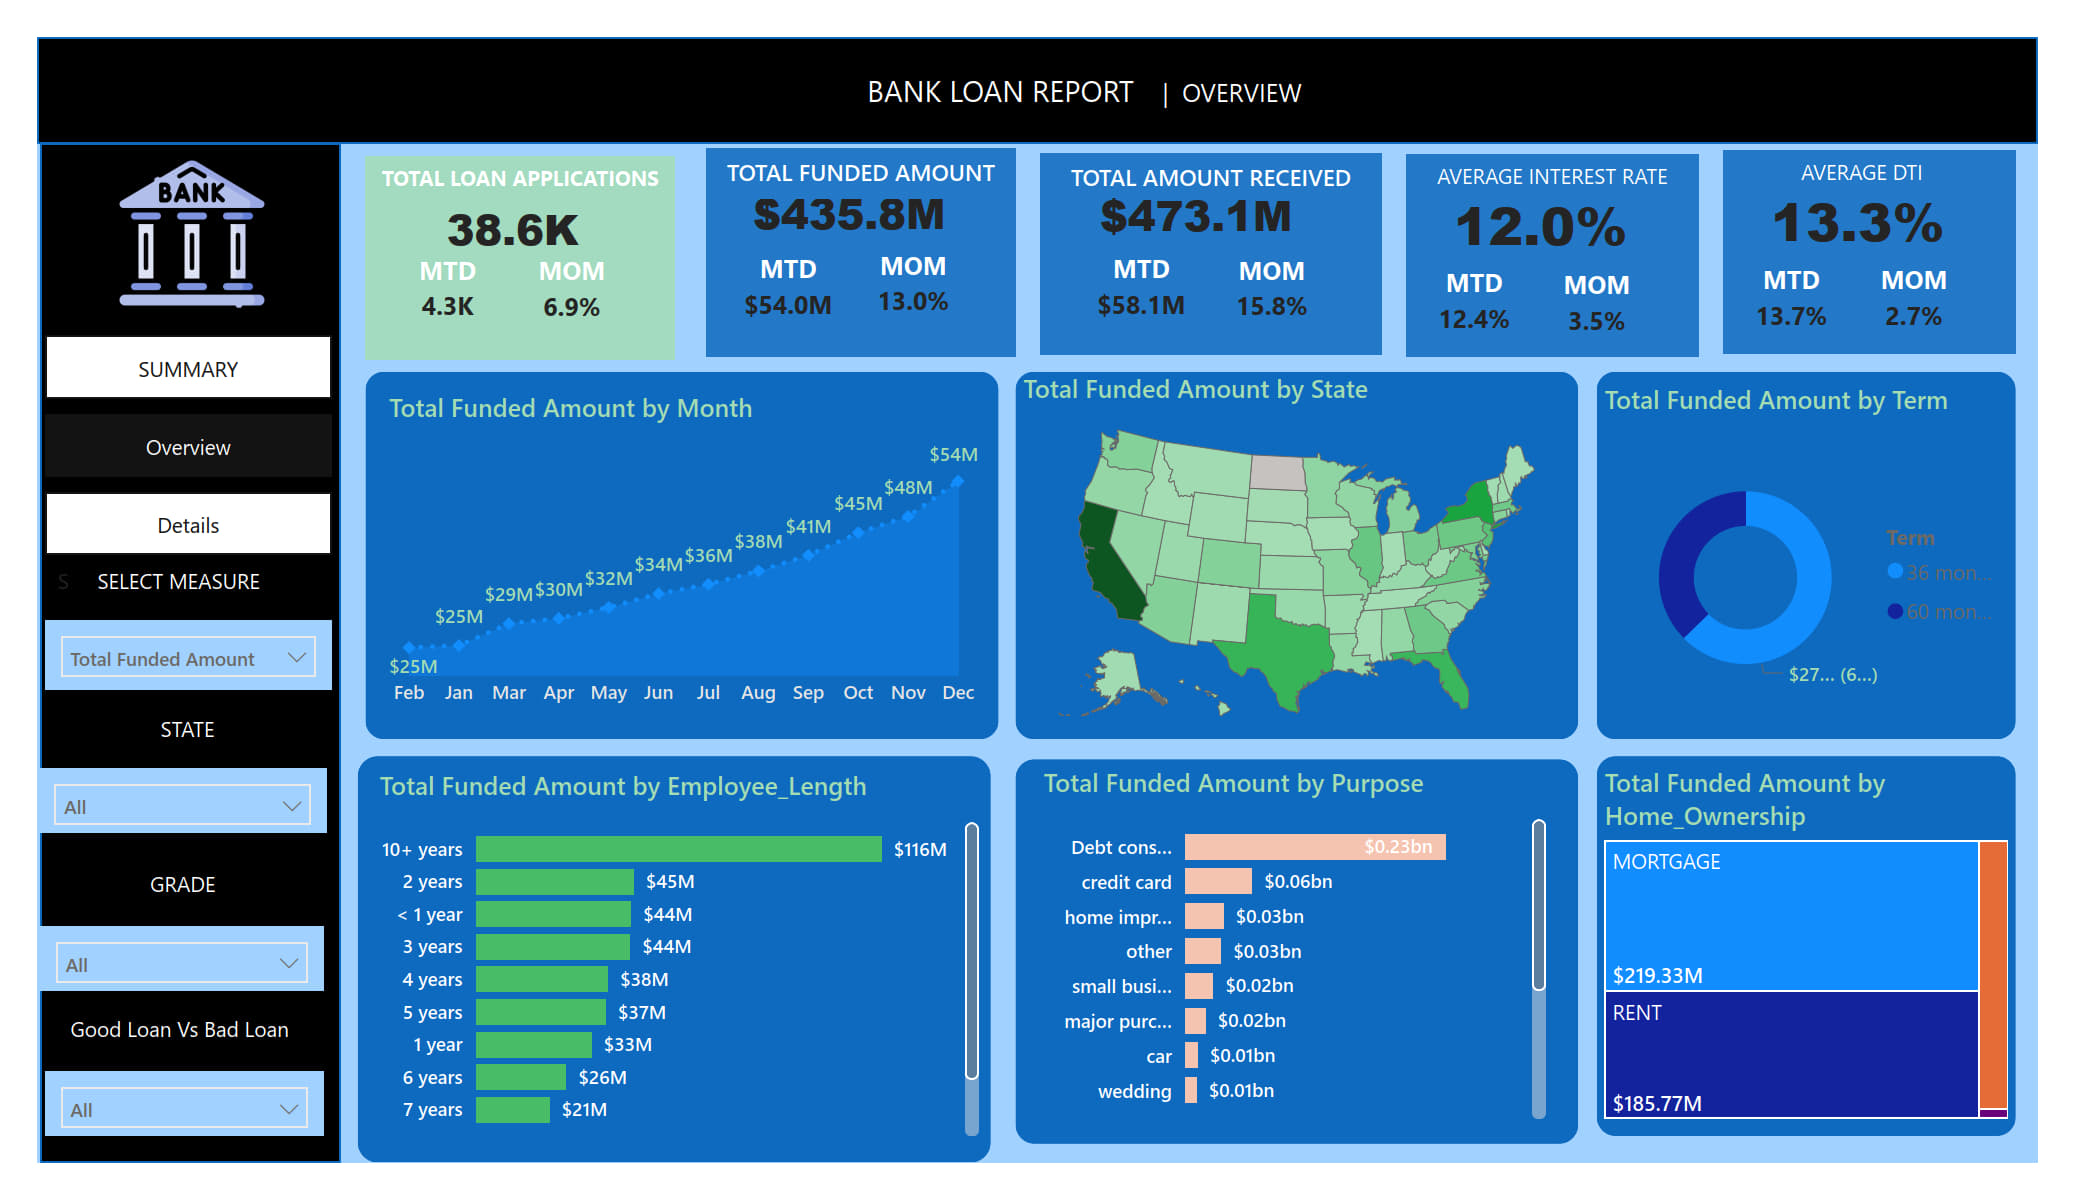

What the dashboard file says about the page in this screenshot:
{"tool":"powerbi","page":{"name":"Overview","canvas":[1280,720],"ordinal":1},"visuals":[{"type":"textbox","title":"Total Funded Amount","box":[428.2,71.2,197.9,132.7],"z":0,"group":"g2"},{"type":"textbox","title":"Total Funded Amount","box":[1078.6,72.4,187,130.3],"z":0,"group":"g5"},{"type":"textbox","title":"Total Funded Amount","box":[641.7,73.6,218.4,129.1],"z":0,"group":"g3"},{"type":"textbox","title":"Total Funded Amount","box":[875.8,74.8,187,129.1],"z":0,"group":"g4"},{"type":"group","id":"g1","title":"Group 1","box":[209.9,76,197.9,130.3],"z":0},{"type":"textbox","box":[209.9,76,197.9,130.3],"z":0,"group":"g1"},{"type":"card","fields":{"Values":["Bank_Loan.Avg DTI"]},"box":[1087.6,96.8,154.4,42.4],"z":1000,"group":"g5"},{"type":"card","fields":{"Values":["Bank_Loan.Total Amount Received"]},"box":[672.5,98,137.5,32.3],"z":1000,"group":"g3"},{"type":"card","fields":{"Values":["Bank_Loan.Avg Interest rate"]},"box":[884.8,99,154.4,42.1],"z":1000,"group":"g4"},{"type":"card","fields":{"Values":["Bank_Loan.Total Funded Amount"]},"box":[447.1,99.7,144.8,28.7],"z":1000,"group":"g2"},{"type":"shape","box":[209.9,213.5,405,235],"z":1000},{"type":"shape","box":[0,0,1280,67.6],"z":2000},{"type":"card","title":"MTD","fields":{"Values":["Bank_Loan.MTD Funded Amount"]},"box":[444.7,136.7,72.4,47.8],"z":2000,"group":"g2"},{"type":"card","title":"MTD","fields":{"Values":["Bank_Loan.MTD Total Amount Received"]},"box":[669.9,137,72.4,49.6],"z":2000,"group":"g3"},{"type":"card","title":"MTD","fields":{"Values":["Bank_Loan.MTD Loan Applications"]},"box":[227.7,138.2,69.3,47],"z":2000,"group":"g1"},{"type":"card","title":"MTD","fields":{"Values":["Bank_Loan.MTD Avg DTI"]},"box":[1094.1,144.5,56.6,46.2],"z":2000,"group":"g5"},{"type":"card","title":"MTD","fields":{"Values":["Bank_Loan.MTD Avg Int"]},"box":[891.3,146.2,56.6,45.8],"z":2000,"group":"g4"},{"type":"shape","box":[2.4,67.6,191.8,652.7],"z":3000},{"type":"card","title":"MOM","fields":{"Values":["Bank_Loan.MOM Funded Amount"]},"box":[524.3,135.5,72.4,47.8],"z":3000,"group":"g2"},{"type":"card","title":"MOM","fields":{"Values":["Bank_Loan.MoM Amount Received"]},"box":[754.5,137.5,70,49.6],"z":3000,"group":"g3"},{"type":"card","title":"MOM","fields":{"Values":["Bank_Loan.MOM Loan Applications"]},"box":[304.6,138.2,74.4,45.8],"z":3000,"group":"g1"},{"type":"card","title":"MOM","fields":{"Values":["Bank_Loan.MOM Avg DTI"]},"box":[1173,144.9,55.6,46.2],"z":3000,"group":"g5"},{"type":"card","title":"MOM","fields":{"Values":["Bank_Loan.MOM Avg Int"]},"box":[970.2,146.6,55.6,45.8],"z":3000,"group":"g4"},{"type":"card","fields":{"Values":["Bank_Loan.Total Loan Applications"]},"box":[235.3,107.4,137.5,32.6],"z":4000},{"type":"group","id":"g2","title":"Group 1","box":[428.2,71.2,197.9,132.7],"z":5000},{"type":"group","id":"g3","title":"Group 1","box":[641.7,73.6,218.4,129.1],"z":6000},{"type":"group","id":"g4","title":"Group 1","box":[875.8,74.8,187,129.1],"z":7000},{"type":"group","id":"g5","title":"Group 1","box":[1078.6,72.4,187,130.3],"z":8000},{"type":"slicer","fields":{"Values":["Bank_Loan.address_state"]},"box":[1.2,468.1,183.4,41],"z":9000},{"type":"textbox","box":[7.2,429.5,177.3,30.2],"z":10000},{"type":"slicer","fields":{"Values":["Bank_Loan.grade"]},"box":[2.4,569.4,181,41],"z":11000},{"type":"textbox","box":[13.3,621.3,155.6,30.2],"z":12000},{"type":"textbox","box":[4.8,528.4,176.1,32.6],"z":13000},{"type":"slicer","fields":{"Values":["Bank_Loan.Good Vs Bad Loan"]},"box":[4.8,662.3,178.6,41],"z":14000},{"type":"textbox","box":[480.2,15.7,431.9,35],"z":15000},{"type":"areaChart","fields":{"Y":["Bank_Loan.Total Funded Amount"],"Category":["Date Table.Month"]},"box":[219.6,225.6,387.3,211.1],"z":16000},{"type":"slicer","fields":{"Values":["Select Measure.Select Measure"]},"box":[4.8,372.8,183.4,44.6],"z":17000},{"type":"textbox","box":[8.4,334.2,176.1,30.2],"z":18000},{"type":"shape","box":[626.1,213.5,360,235.3],"z":19000},{"type":"shapeMap","fields":{"Value":["Bank_Loan.Total Funded Amount"],"Category":["Bank_Loan.address_state"]},"box":[626.1,213.5,359.5,235.3],"z":20000},{"type":"shape","box":[997.7,213.5,267.8,235.3],"z":21000},{"type":"donutChart","fields":{"Y":["Bank_Loan.Total Funded Amount"],"Category":["Bank_Loan.term"]},"box":[997.7,220.8,267.8,226.8],"z":22000},{"type":"shape","box":[205.1,459.7,405.4,260.6],"z":23000},{"type":"barChart","fields":{"Y":["Bank_Loan.Total Funded Amount"],"Category":["Bank_Loan.emp_length"]},"box":[213.5,468.1,393.3,240.1],"z":24000},{"type":"shape","box":[626.1,462.1,359.5,246.1],"z":25000},{"type":"barChart","fields":{"Y":["Bank_Loan.Total Funded Amount"],"Category":["Bank_Loan.purpose"]},"box":[639.4,465.7,330.6,231.6],"z":26000},{"type":"shape","box":[997.7,459.7,267.8,243.7],"z":27000},{"type":"treemap","fields":{"Values":["Bank_Loan.Total Funded Amount"],"Group":["Bank_Loan.home_ownership"]},"box":[997.7,465.7,267.8,231.6],"z":28000},{"type":"pageNavigator","box":[4.8,190.6,183.4,139.9],"z":29000},{"type":"image","box":[13.3,71.2,171.3,107.4],"z":30000}]}

Visuals, with their boxes on the page's 1280x720 design canvas (x1, y1, x2, y2). These are canvas units, not pixel positions in the 2075x1200 screenshot, which may show the page scaled, cropped or inside an application window:
"Total Funded Amount" textbox: (428, 71, 626, 204)
"Total Funded Amount" textbox: (1079, 72, 1266, 203)
"Total Funded Amount" textbox: (642, 74, 860, 203)
"Total Funded Amount" textbox: (876, 75, 1063, 204)
"Group 1" group: (210, 76, 408, 206)
textbox: (210, 76, 408, 206)
card - Bank_Loan.Avg DTI: (1088, 97, 1242, 139)
card - Bank_Loan.Total Amount Received: (672, 98, 810, 130)
card - Bank_Loan.Avg Interest rate: (885, 99, 1039, 141)
card - Bank_Loan.Total Funded Amount: (447, 100, 592, 128)
shape: (210, 214, 615, 448)
shape: (0, 0, 1280, 68)
"MTD" card: (445, 137, 517, 184)
"MTD" card: (670, 137, 742, 187)
"MTD" card: (228, 138, 297, 185)
"MTD" card: (1094, 144, 1151, 191)
"MTD" card: (891, 146, 948, 192)
shape: (2, 68, 194, 720)
"MOM" card: (524, 136, 597, 183)
"MOM" card: (754, 138, 824, 187)
"MOM" card: (305, 138, 379, 184)
"MOM" card: (1173, 145, 1229, 191)
"MOM" card: (970, 147, 1026, 192)
card - Bank_Loan.Total Loan Applications: (235, 107, 373, 140)
"Group 1" group: (428, 71, 626, 204)
"Group 1" group: (642, 74, 860, 203)
"Group 1" group: (876, 75, 1063, 204)
"Group 1" group: (1079, 72, 1266, 203)
slicer - Bank_Loan.address_state: (1, 468, 185, 509)
textbox: (7, 430, 184, 460)
slicer - Bank_Loan.grade: (2, 569, 183, 610)
textbox: (13, 621, 169, 652)
textbox: (5, 528, 181, 561)
slicer - Bank_Loan.Good Vs Bad Loan: (5, 662, 183, 703)
textbox: (480, 16, 912, 51)
areaChart - Bank_Loan.Total Funded Amount x Date Table.Month: (220, 226, 607, 437)
slicer - Select Measure.Select Measure: (5, 373, 188, 417)
textbox: (8, 334, 184, 364)
shape: (626, 214, 986, 449)
shapeMap - Bank_Loan.Total Funded Amount x Bank_Loan.address_state: (626, 214, 986, 449)
shape: (998, 214, 1266, 449)
donutChart - Bank_Loan.Total Funded Amount x Bank_Loan.term: (998, 221, 1266, 448)
shape: (205, 460, 610, 720)
barChart - Bank_Loan.Total Funded Amount x Bank_Loan.emp_length: (214, 468, 607, 708)
shape: (626, 462, 986, 708)
barChart - Bank_Loan.Total Funded Amount x Bank_Loan.purpose: (639, 466, 970, 697)
shape: (998, 460, 1266, 703)
treemap - Bank_Loan.Total Funded Amount x Bank_Loan.home_ownership: (998, 466, 1266, 697)
pageNavigator: (5, 191, 188, 330)
image: (13, 71, 185, 179)
